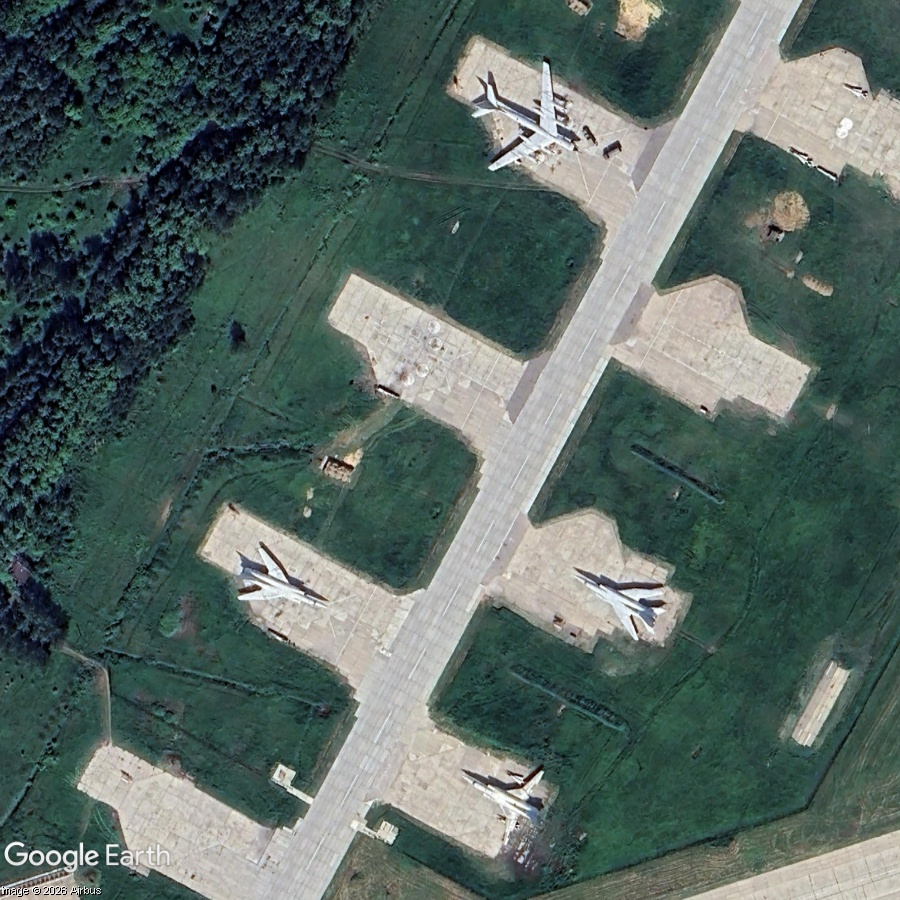Máy bay ném bom: (446, 39, 609, 205), (555, 542, 681, 651), (443, 737, 565, 849), (223, 536, 343, 638)
